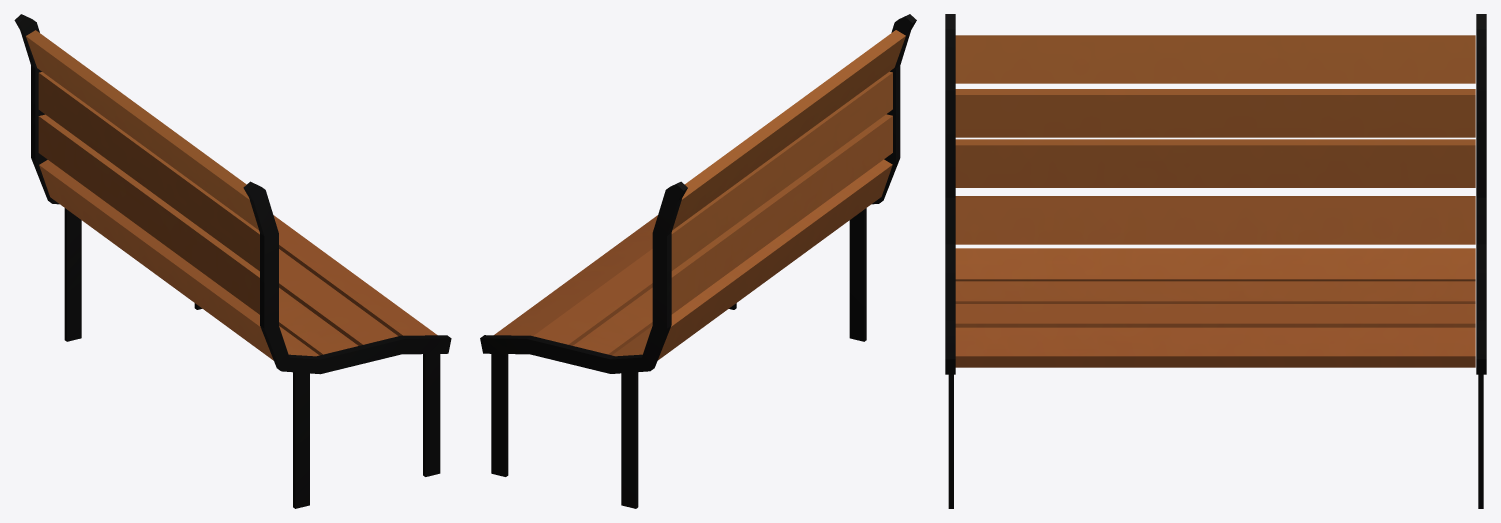
The model's file is Banch.fbx.
3 views of the same model, side by side, from view 1: azimuth 30°, elevation 25°; view 2: azimuth 150°, elevation 25°; view 3: azimuth 270°, elevation 25° (orthographic). The views are drawn at different scales.
Parts seen in each view (by area): view 1: Banch; view 2: Banch; view 3: Banch.
Boxes of the visible parts, box(x1,y1,x2,y2) form: Banch: box(14, 14, 451, 508); Banch: box(480, 14, 916, 508); Banch: box(945, 14, 1486, 508).
Bounding box in the file's own units: 111 × 175 × 220.
Materials: 1 (1 with a texture image).
